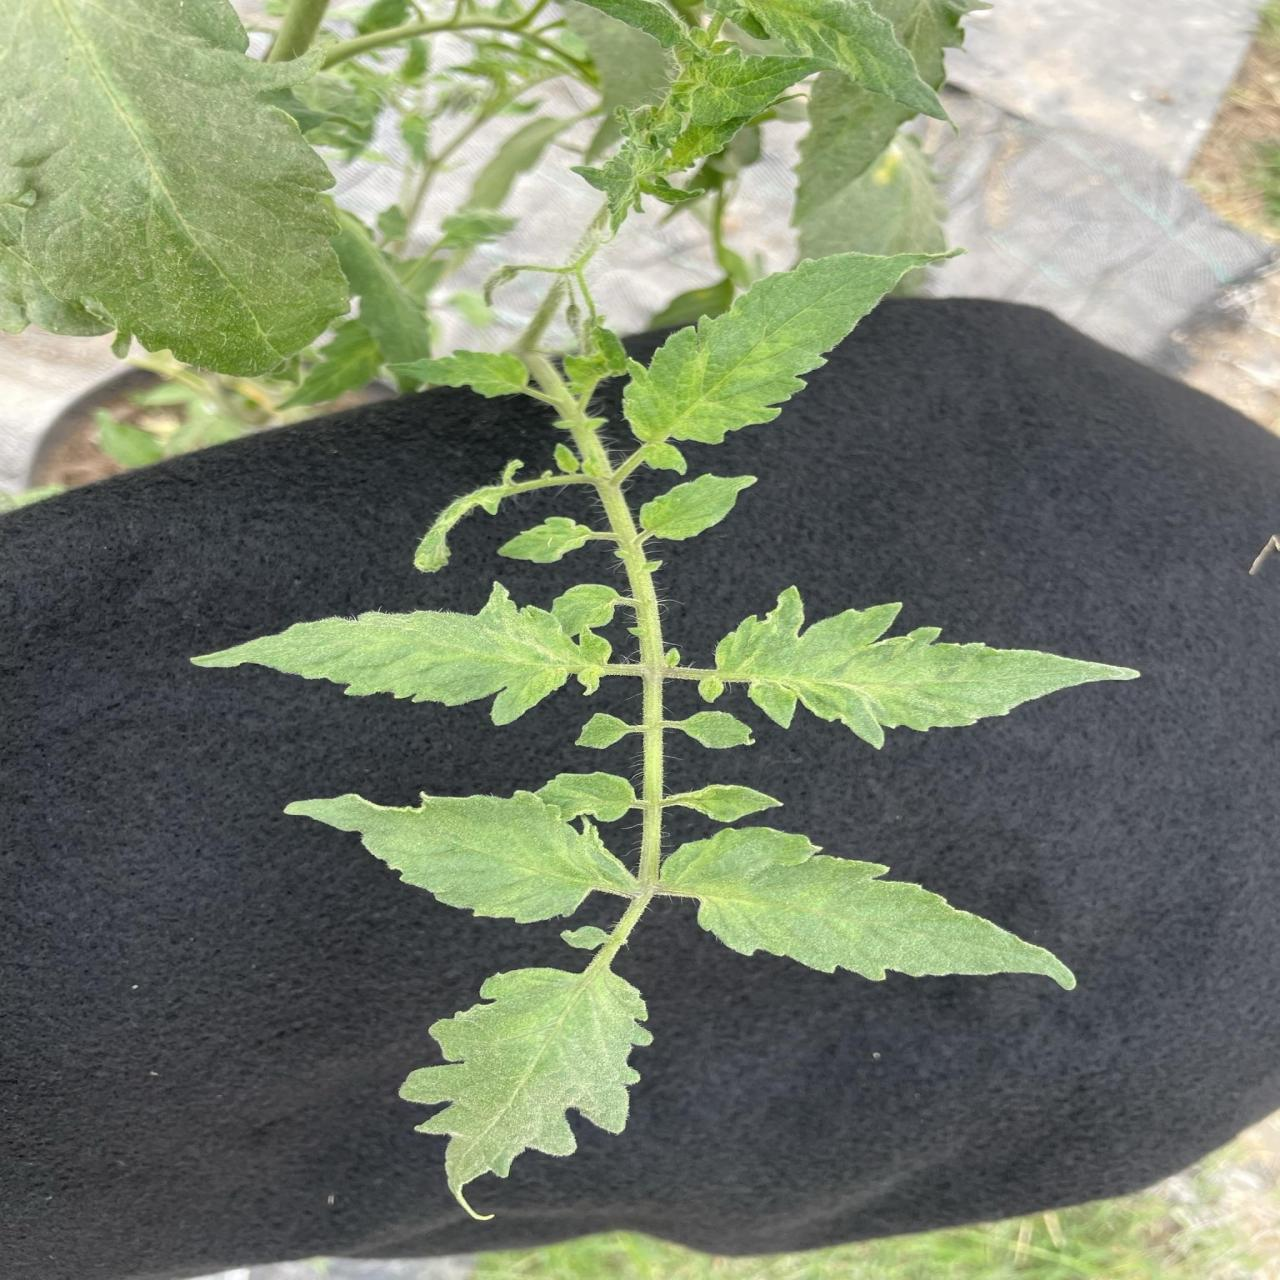T_L_R: (4, 1, 348, 376), (719, 588, 1138, 749), (663, 829, 1078, 990), (401, 969, 651, 1219), (624, 254, 931, 444), (195, 586, 611, 726), (288, 791, 638, 924), (641, 476, 758, 542), (399, 350, 531, 399), (538, 774, 638, 824), (668, 787, 781, 824), (501, 519, 594, 564)
T_S_R: (591, 454, 681, 960)
